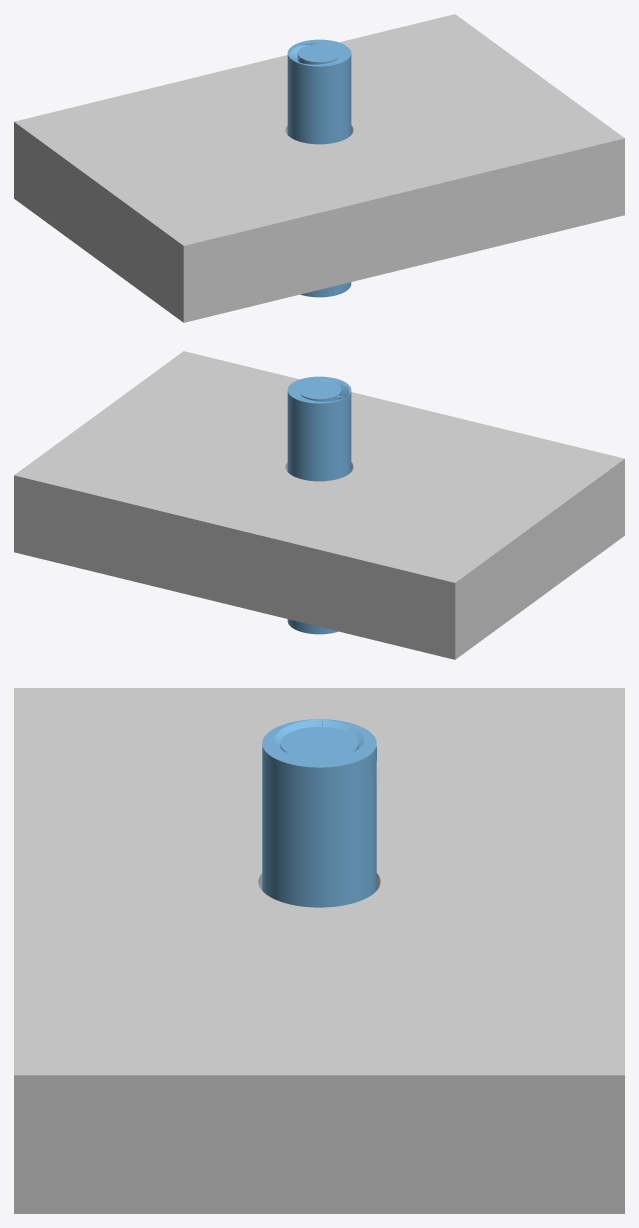
Rendered from plaka_ve_gercek_yivli_pim_v4.gltf.
3 views of the same model, one above another, from view 1: azimuth 30°, elevation 25°; view 2: azimuth 150°, elevation 25°; view 3: azimuth 270°, elevation 25° (orthographic). The views are drawn at different scales.
Parts seen in each view (by area): view 1: plaka_part, yivli_pim_part; view 2: plaka_part, yivli_pim_part; view 3: plaka_part, yivli_pim_part.
Part boxes in pixels (bbox=[...]): plaka_part: bbox=[14, 14, 624, 322]; yivli_pim_part: bbox=[287, 39, 351, 297]; plaka_part: bbox=[14, 351, 624, 659]; yivli_pim_part: bbox=[287, 376, 351, 634]; plaka_part: bbox=[14, 688, 624, 1213]; yivli_pim_part: bbox=[262, 719, 376, 907].
Bounding box in the file's own units: 60 × 30 × 40.
